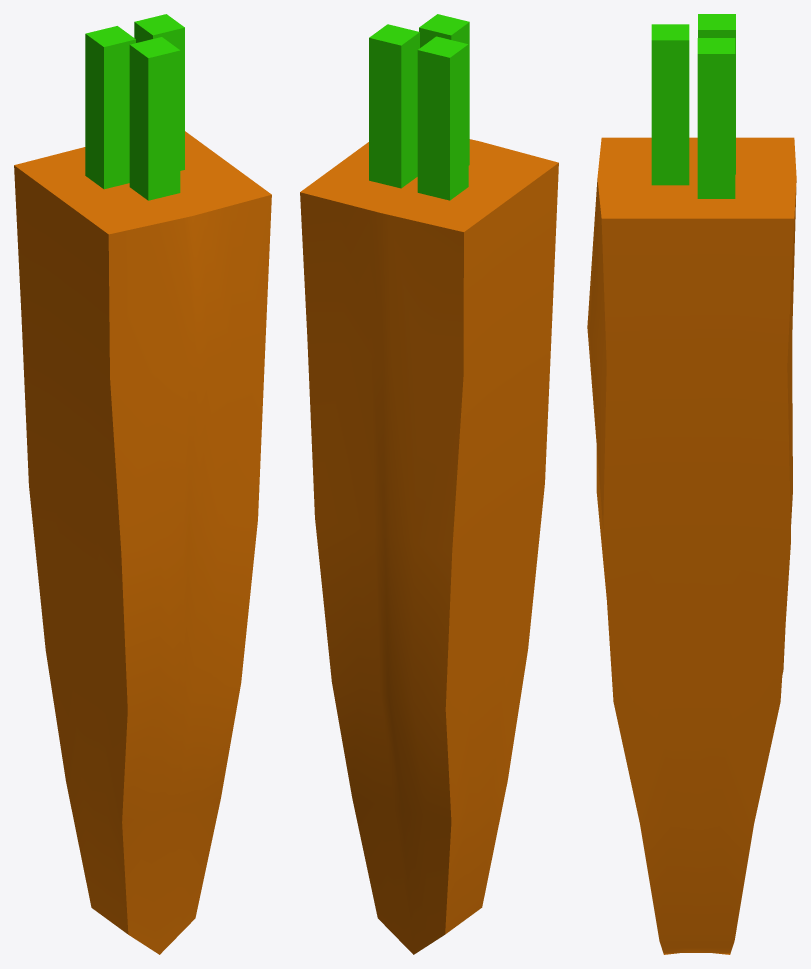
File: ninnjinn.fbx
3 renders of one model, left to right at view 1: azimuth 30°, elevation 25°; view 2: azimuth 150°, elevation 25°; view 3: azimuth 270°, elevation 25°, orthographic.
Parts seen in each view (by area): view 1: pCube1, pasted__pCube3, pasted__pasted__pCube3, pCube3; view 2: pCube1, pasted__pasted__pCube3, pCube3, pasted__pCube3; view 3: pCube1, pasted__pCube3, pCube3, pasted__pasted__pCube3.
Boxes of the visible parts, left/top/right/bottom form: pCube1: left=14, top=131, right=271, bottom=954; pasted__pCube3: left=129, top=37, right=180, bottom=200; pasted__pasted__pCube3: left=85, top=26, right=135, bottom=189; pCube3: left=134, top=14, right=184, bottom=170; pCube1: left=300, top=139, right=558, bottom=954; pasted__pasted__pCube3: left=417, top=36, right=468, bottom=200; pCube3: left=369, top=24, right=419, bottom=188; pasted__pCube3: left=419, top=14, right=469, bottom=165; pCube1: left=587, top=137, right=796, bottom=954; pasted__pCube3: left=651, top=24, right=689, bottom=185; pCube3: left=697, top=38, right=735, bottom=198; pasted__pasted__pCube3: left=698, top=14, right=735, bottom=174.
Size of the model in its own units: 0.5552 by 2.94 by 0.6051.
